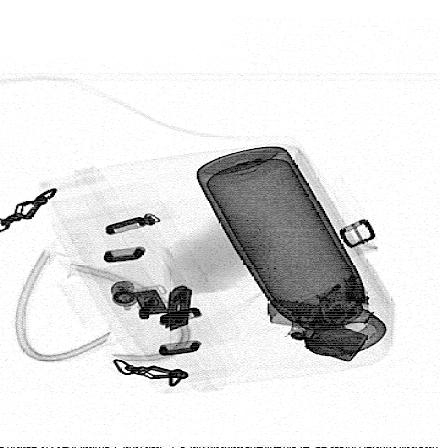Lighter: (268, 299, 369, 363)
